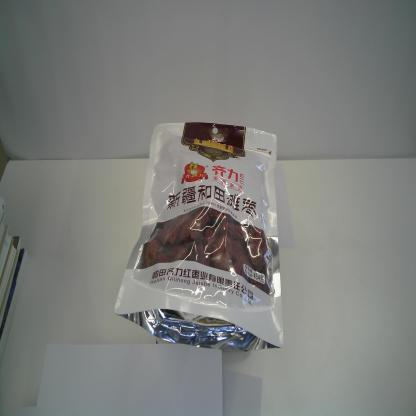Dried Food: (114, 121, 284, 352)
